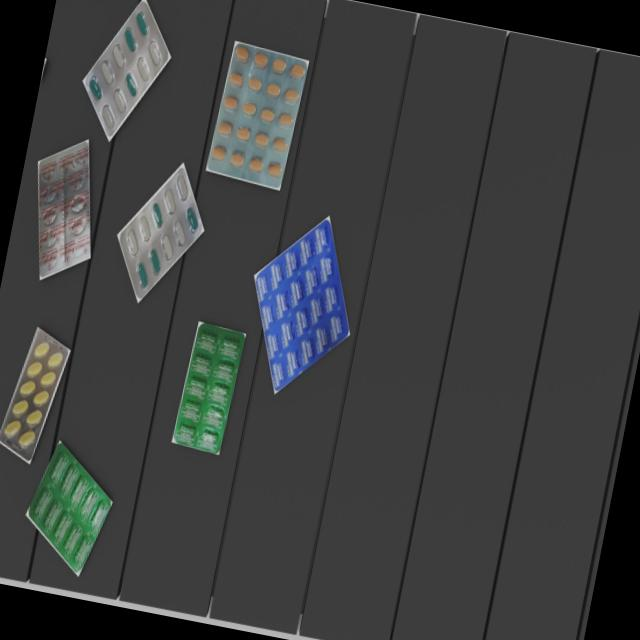blister: (234, 207, 370, 402), (204, 38, 310, 192), (108, 156, 213, 308), (77, 0, 180, 147), (19, 438, 120, 576), (20, 136, 110, 280), (0, 325, 73, 465), (172, 320, 248, 452)
